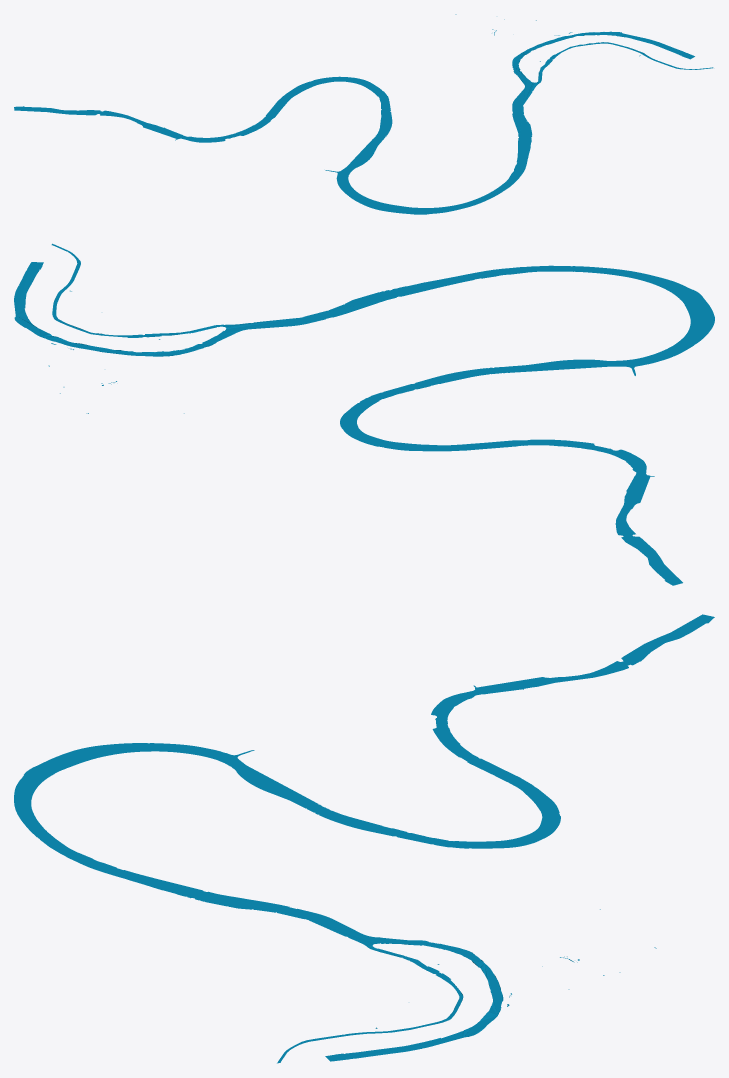
The model's file is water.glb.
3 views of the same model, one above another, from view 1: azimuth 30°, elevation 25°; view 2: azimuth 150°, elevation 25°; view 3: azimuth 270°, elevation 25° (orthographic). The views are drawn at different scales.
Parts seen in each view (by area): view 1: water; view 2: water; view 3: water.
Part boxes in pixels (left/top/right/bottom): water: left=14, top=14, right=713, bottom=214; water: left=14, top=243, right=714, bottom=585; water: left=14, top=614, right=714, bottom=1063.
Size of the model in its own units: 9686 by 46.11 by 6388.
